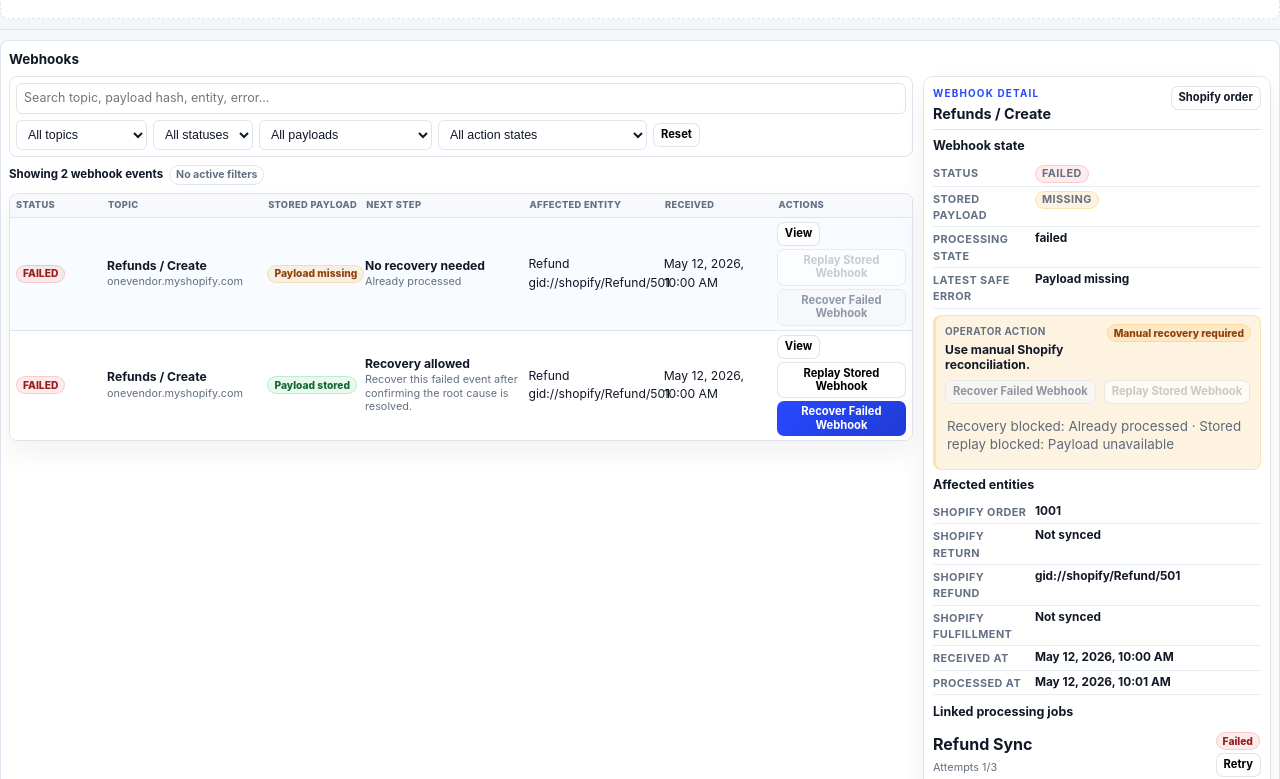
Test case: AdminDiagnosticsPage control center › confirms stored refund replay and explains canonical monetary verification
(page scrolled)
Click the 2nd button "Replay Stored Webhook": (841, 380) top-left (777, 362), bottom-right (906, 398)
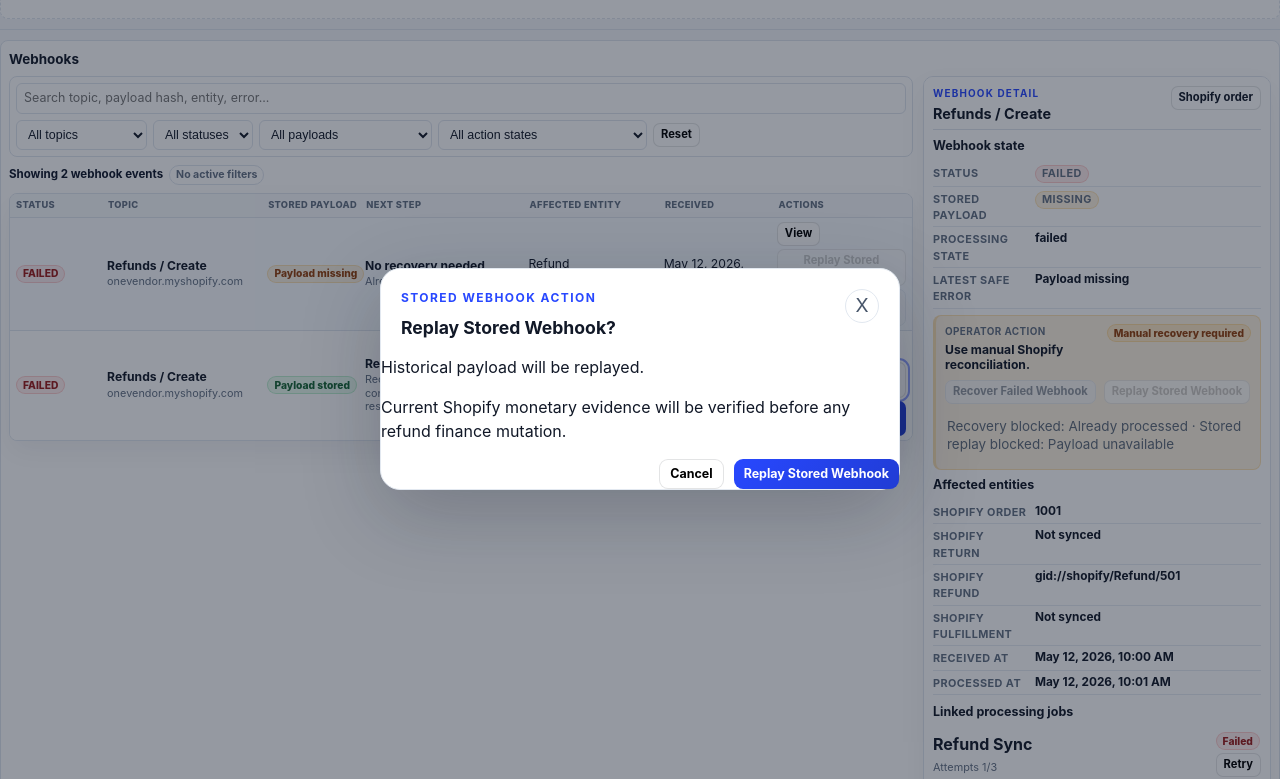
Result: the dialog "Replay Stored Webhook?" shows "Historical payload will be replayed." at top-left (381, 357), bottom-right (644, 377)
Result: the dialog "Replay Stored Webhook?" shows "Current Shopify monetary evidence will be verified before any refund finance mutation." at top-left (381, 397), bottom-right (850, 441)
Click the button "Replay Stored Webhook": (816, 474) top-left (734, 459), bottom-right (899, 489)
(page scrolled)
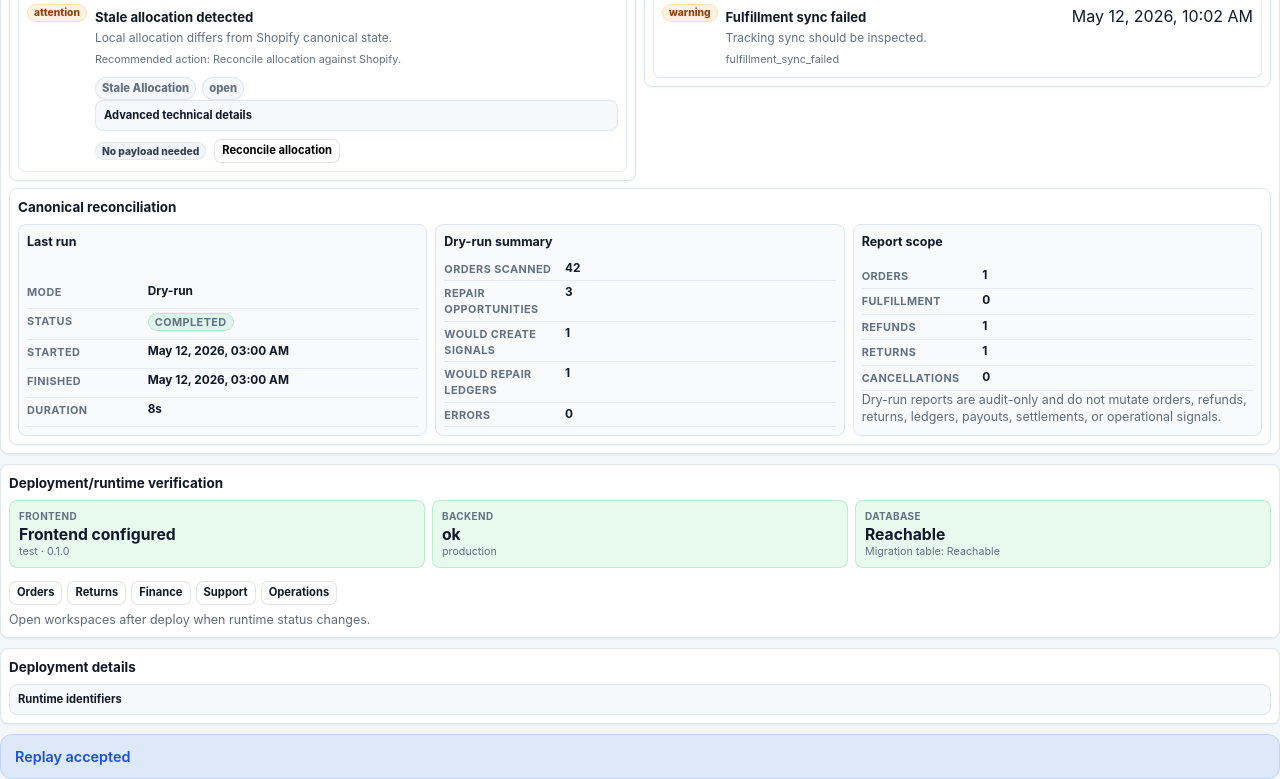
Result: the text "Replay accepted" is shown at top-left (0, 734), bottom-right (1279, 778)
